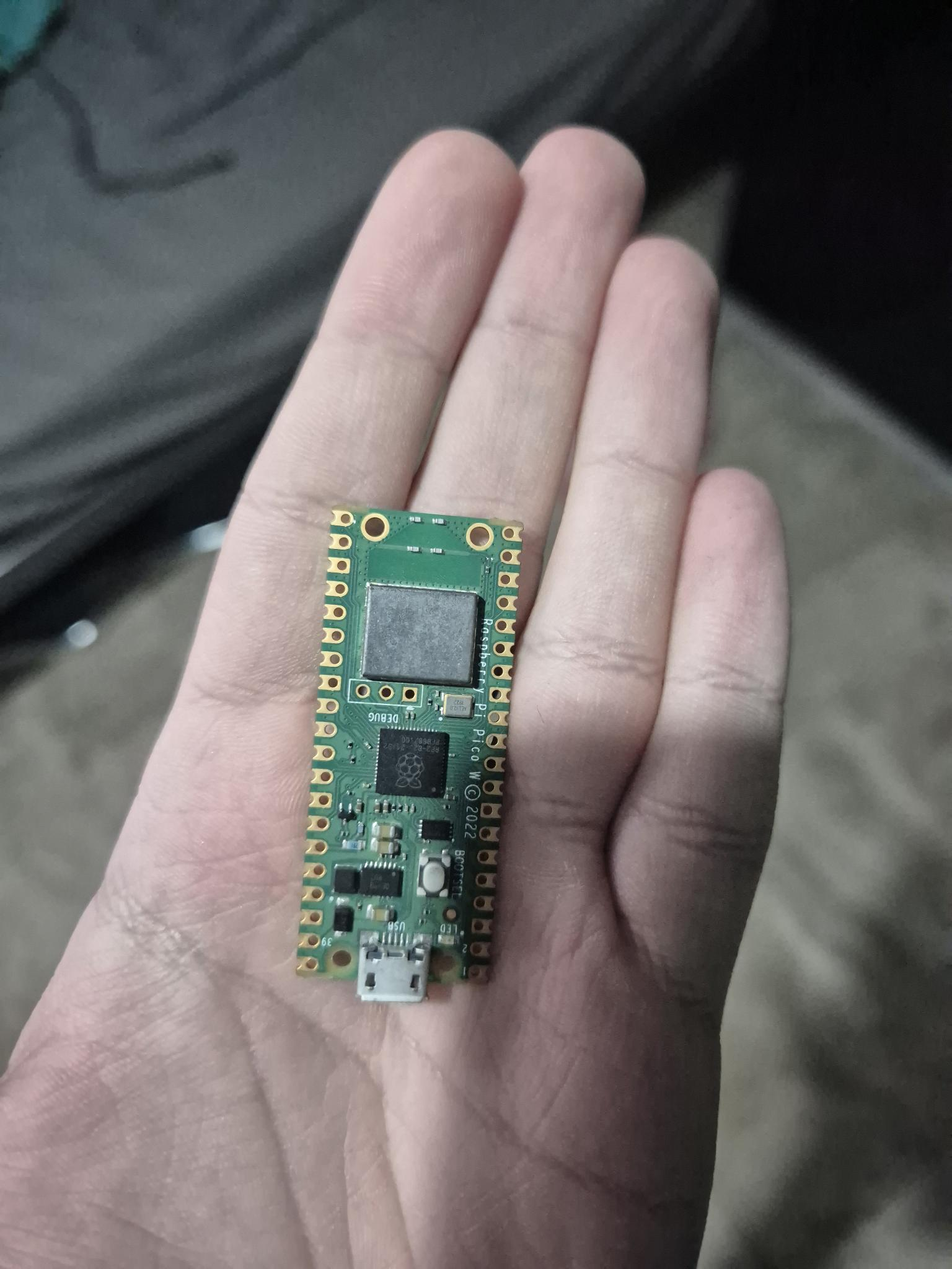raspberry-pi-pico-w: (297, 507, 522, 1003)
